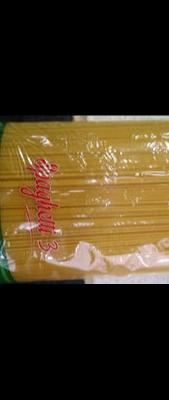Spaghetti: (0, 119, 169, 280)
